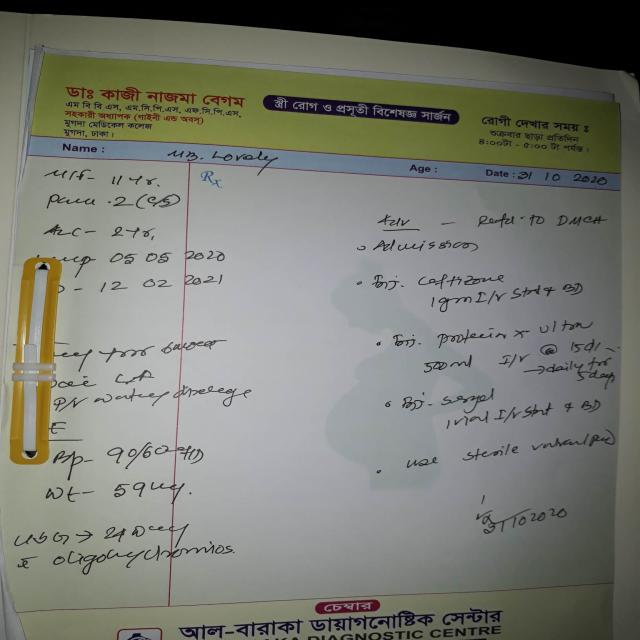Ceftizone: (411, 269, 512, 292)
Protinex Ultra: (432, 321, 597, 345)
Sergel: (434, 390, 499, 410)
